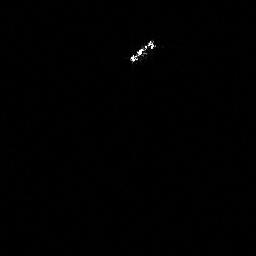ship: (129, 38, 158, 63)
